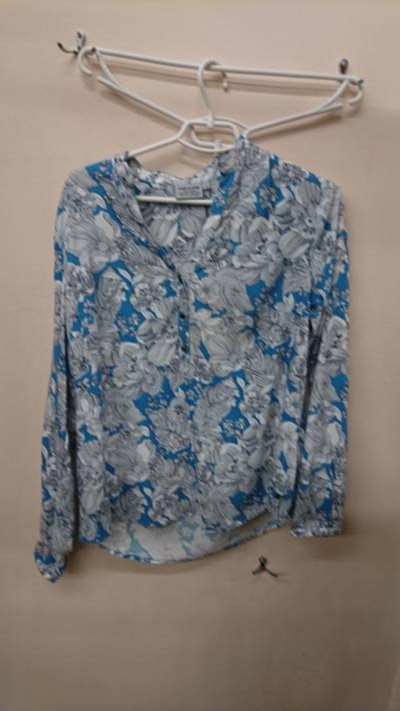Blouse: (18, 100, 372, 608)
